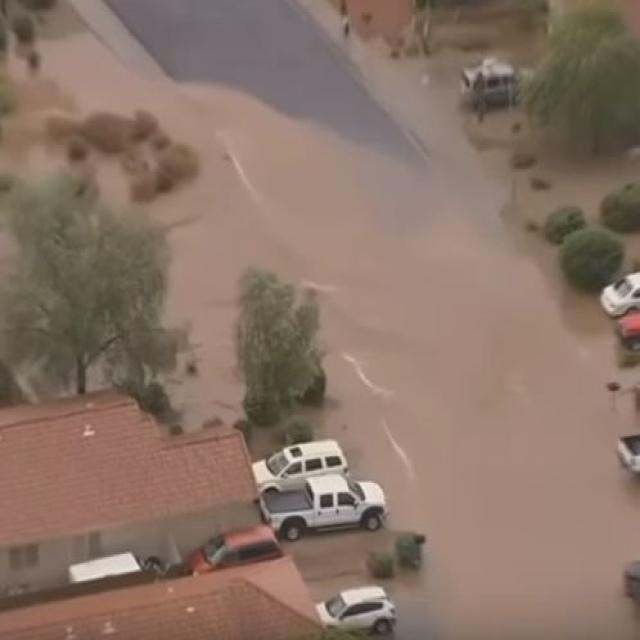flooded_areas: (5, 59, 632, 638)
